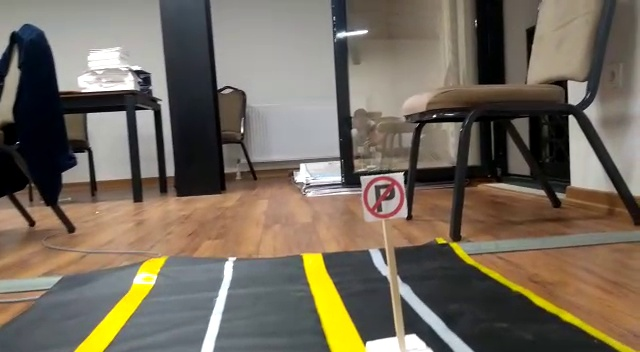park_yapilmaz: (361, 173, 408, 219)
